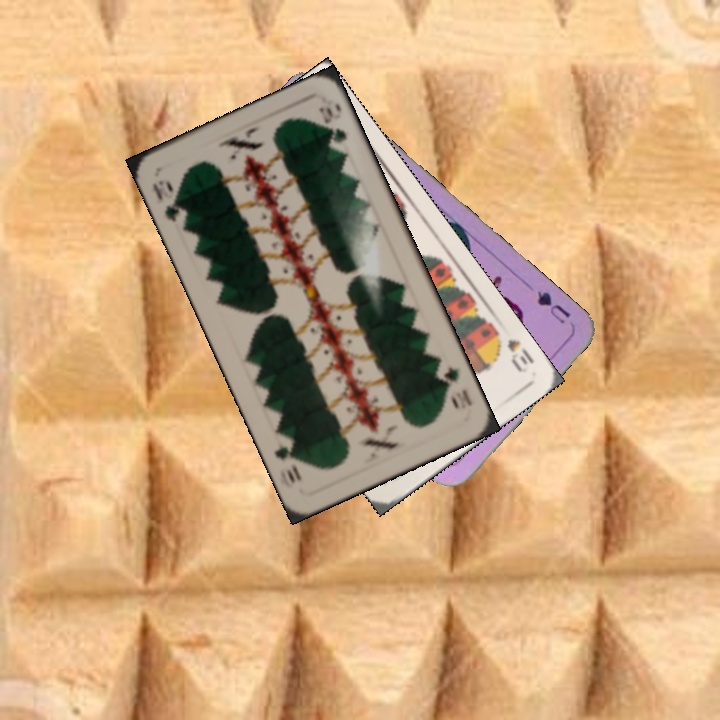G10: (148, 176, 186, 225), (438, 362, 475, 409)
GU: (532, 286, 573, 327)
S10: (489, 325, 537, 376)
